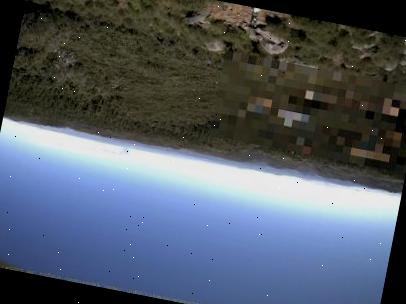smoke: (107, 143, 132, 159)
